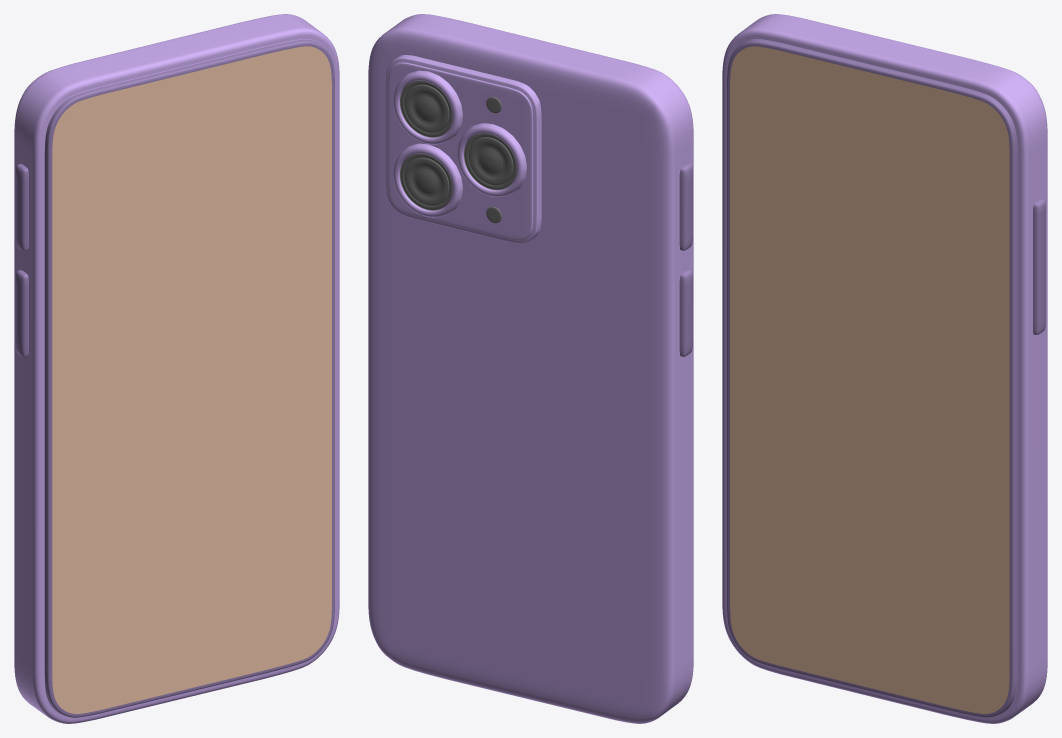
The model's file is social-media-core-services-phone-1679426736058.glb.
3 renders of one model, left to right at view 1: azimuth 30°, elevation 25°; view 2: azimuth 150°, elevation 25°; view 3: azimuth 330°, elevation 25°, orthographic.
Visible parts, largest first — view 1: Phone.001; view 2: Phone.001; view 3: Phone.001.
Part boxes in pixels (x1,y1,x2,y2): Phone.001: (14, 14, 339, 723); Phone.001: (368, 14, 693, 723); Phone.001: (722, 14, 1047, 723).
Bounding box in the file's own units: 1.23 × 2.37 × 0.2484.
